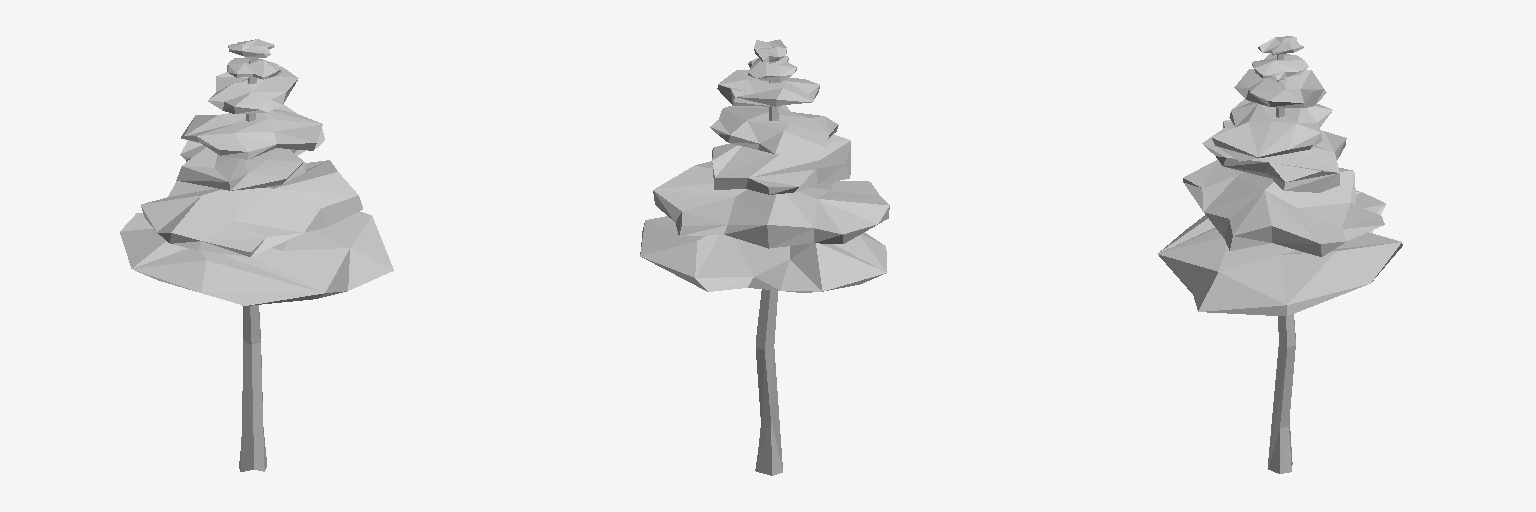
The model's file is tree1.obj.
3 renders of one model, left to right at view 1: azimuth 30°, elevation 25°; view 2: azimuth 150°, elevation 25°; view 3: azimuth 270°, elevation 25°, orthographic.
Parts seen in each view (by area): view 1: Trunk; view 2: Trunk; view 3: Trunk.
Part boxes in pixels (x1,y1,x2,y2): Trunk: (120, 39, 393, 471); Trunk: (640, 39, 889, 475); Trunk: (1158, 36, 1402, 473).
Bounding box in the file's own units: 2.64 × 4.41 × 2.3.